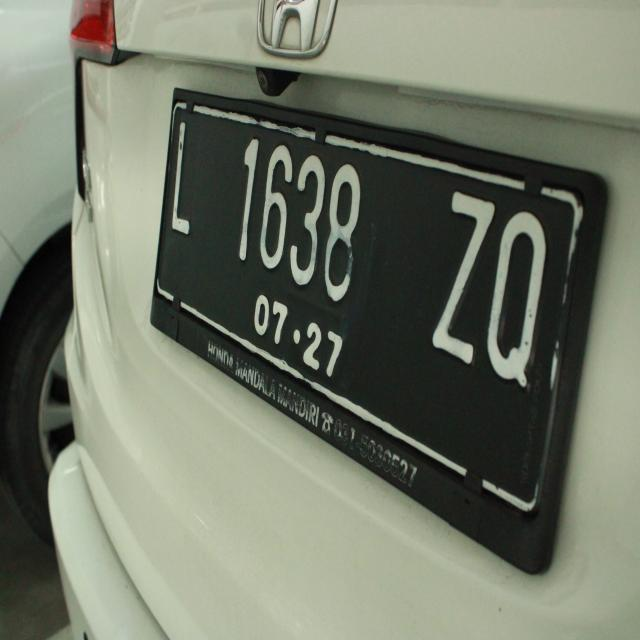1: (226, 120, 267, 266)
3: (284, 142, 325, 294)
6: (256, 128, 292, 276)
8: (322, 151, 366, 308)
L: (157, 98, 205, 246)
Q: (484, 182, 554, 428)
Z: (430, 168, 498, 382)
